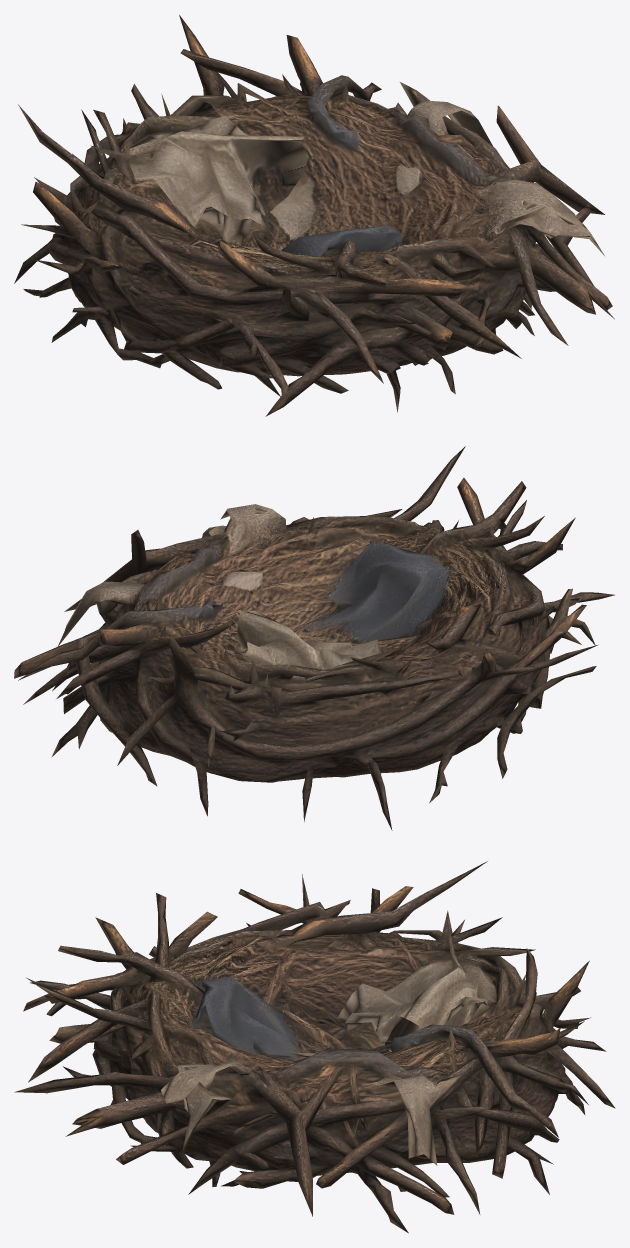
Rendered from nest_h31_raw_v2.glb.
3 renders of one model, top to bottom at view 1: azimuth 30°, elevation 25°; view 2: azimuth 150°, elevation 25°; view 3: azimuth 270°, elevation 25°, orthographic. The views are drawn at different scales.
Parts seen in each view (by area): view 1: tripo_node_f14b64c4-f94b-43fa-bdd4-070f5fda5ab5; view 2: tripo_node_f14b64c4-f94b-43fa-bdd4-070f5fda5ab5; view 3: tripo_node_f14b64c4-f94b-43fa-bdd4-070f5fda5ab5.
Part boxes in pixels (bbox=[...]): tripo_node_f14b64c4-f94b-43fa-bdd4-070f5fda5ab5: bbox=[14, 15, 614, 416]; tripo_node_f14b64c4-f94b-43fa-bdd4-070f5fda5ab5: bbox=[14, 446, 614, 830]; tripo_node_f14b64c4-f94b-43fa-bdd4-070f5fda5ab5: bbox=[14, 861, 615, 1233].
Bounding box in the file's own units: 0.9953 × 0.3245 × 1.
Materials: 1 (1 with a texture image).
